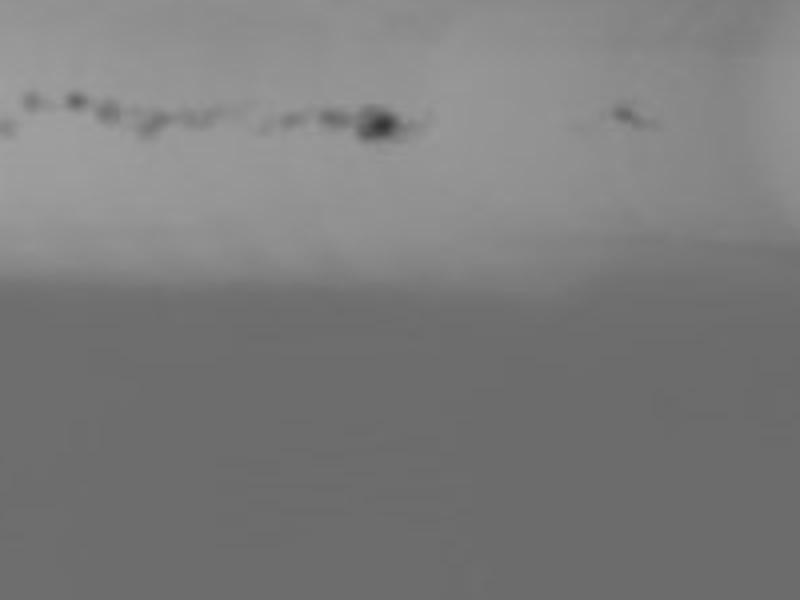defect: (357, 103, 399, 145), (134, 106, 172, 148), (181, 102, 227, 133), (93, 95, 126, 130), (316, 104, 350, 133), (611, 102, 644, 130), (271, 110, 307, 133), (17, 90, 44, 113), (66, 87, 89, 110), (249, 120, 273, 141), (1, 120, 17, 140)
